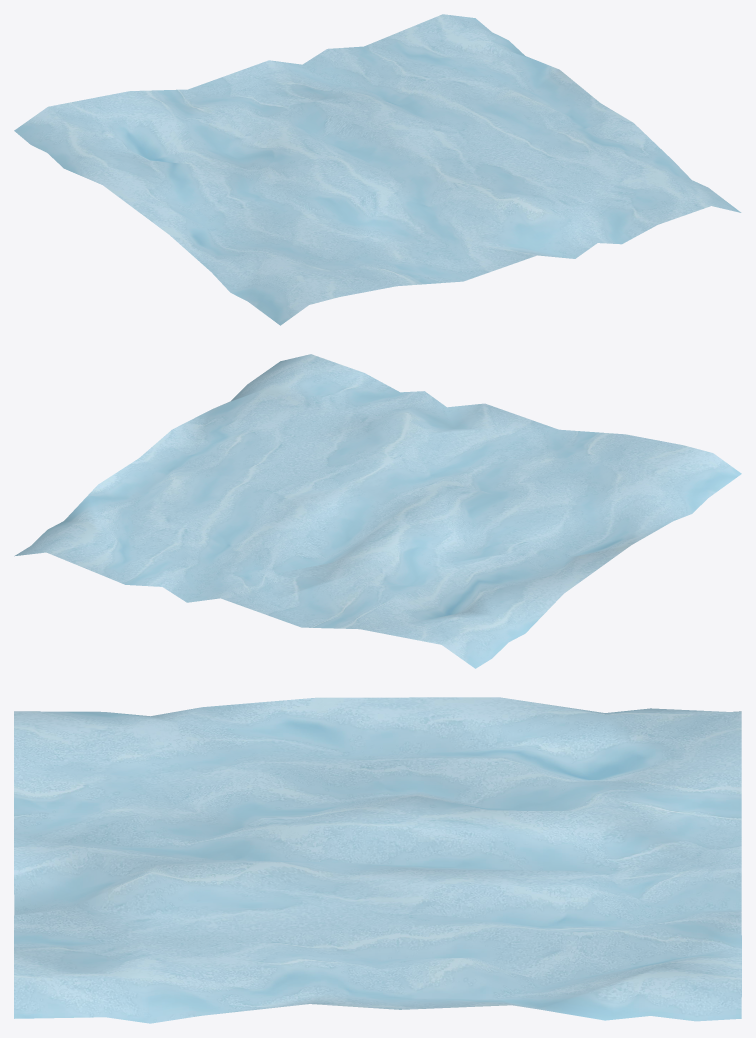
File: Ground_snow.fbx
3 views of the same model, one above another, from view 1: azimuth 30°, elevation 25°; view 2: azimuth 150°, elevation 25°; view 3: azimuth 270°, elevation 25° (orthographic). The views are drawn at different scales.
Parts seen in each view (by area): view 1: Plane; view 2: Plane; view 3: Plane.
Part boxes in pixels (box(x1,y1,x2,y2)): Plane: box(14, 14, 741, 325); Plane: box(14, 354, 741, 668); Plane: box(14, 697, 741, 1023).
Bounding box in the file's own units: 200 × 13.09 × 200.
